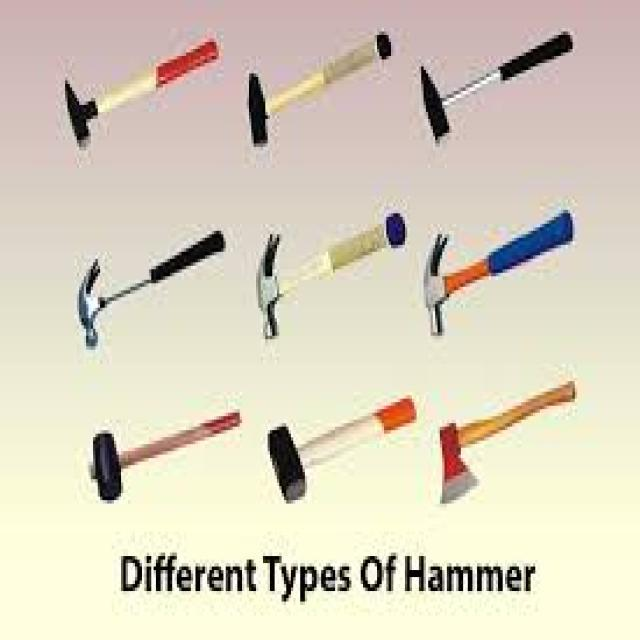hammer: (422, 200, 590, 348), (243, 208, 411, 355), (57, 224, 232, 358)
